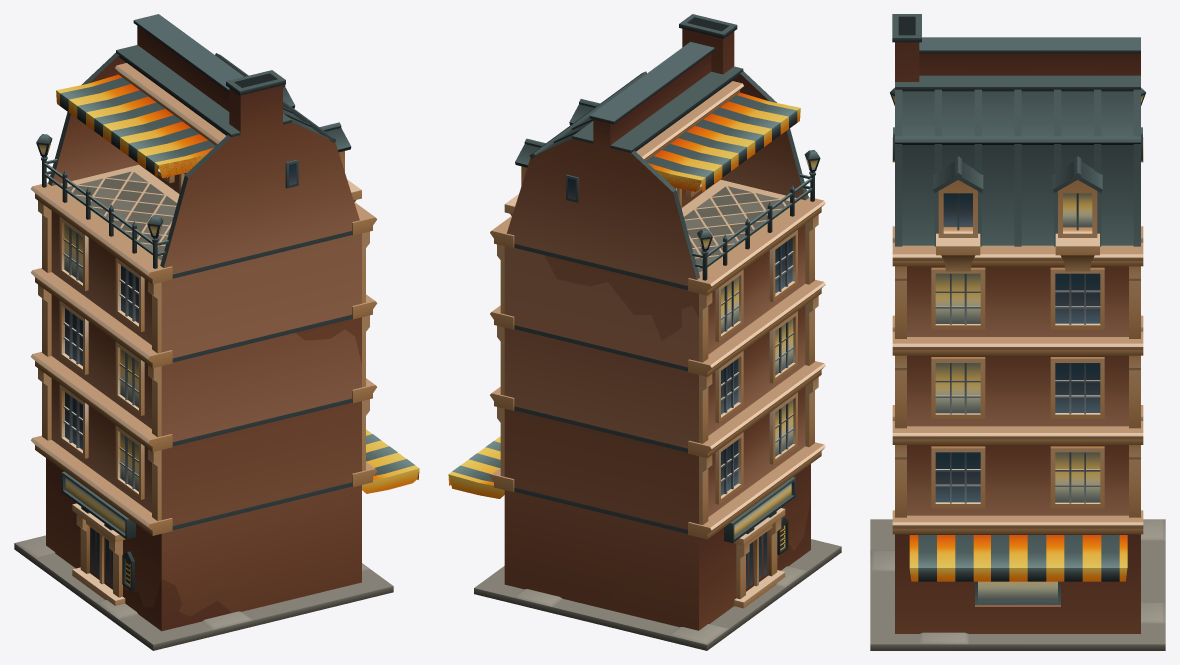
File: Building_2B.fbx
The picture shows the model from 3 angles, left to right: view 1: azimuth 30°, elevation 25°; view 2: azimuth 150°, elevation 25°; view 3: azimuth 270°, elevation 25°; orthographic projection. The views are drawn at different scales.
Visible parts, largest first — view 1: Building_2B, Canopy_2B_Top, Canopy_2B_Bottom, Window_Lights_2B; view 2: Building_2B, Canopy_2B_Top, Canopy_2B_Bottom, Window_Lights_2B; view 3: Building_2B, Canopy_2B_Bottom, Window_Lights_2B.
Boxes of the visible parts, <box> form: Building_2B: <box>14,14,393,650</box>; Canopy_2B_Top: <box>56,74,215,178</box>; Canopy_2B_Bottom: <box>362,429,419,493</box>; Window_Lights_2B: <box>64,166,187,491</box>; Building_2B: <box>474,14,841,650</box>; Canopy_2B_Top: <box>646,92,800,191</box>; Canopy_2B_Bottom: <box>448,436,504,498</box>; Window_Lights_2B: <box>676,181,793,456</box>; Building_2B: <box>870,14,1165,650</box>; Canopy_2B_Bottom: <box>909,535,1127,581</box>; Window_Lights_2B: <box>935,193,1100,600</box>.
Size of the model in its own units: 1422 by 2520 by 1200.
